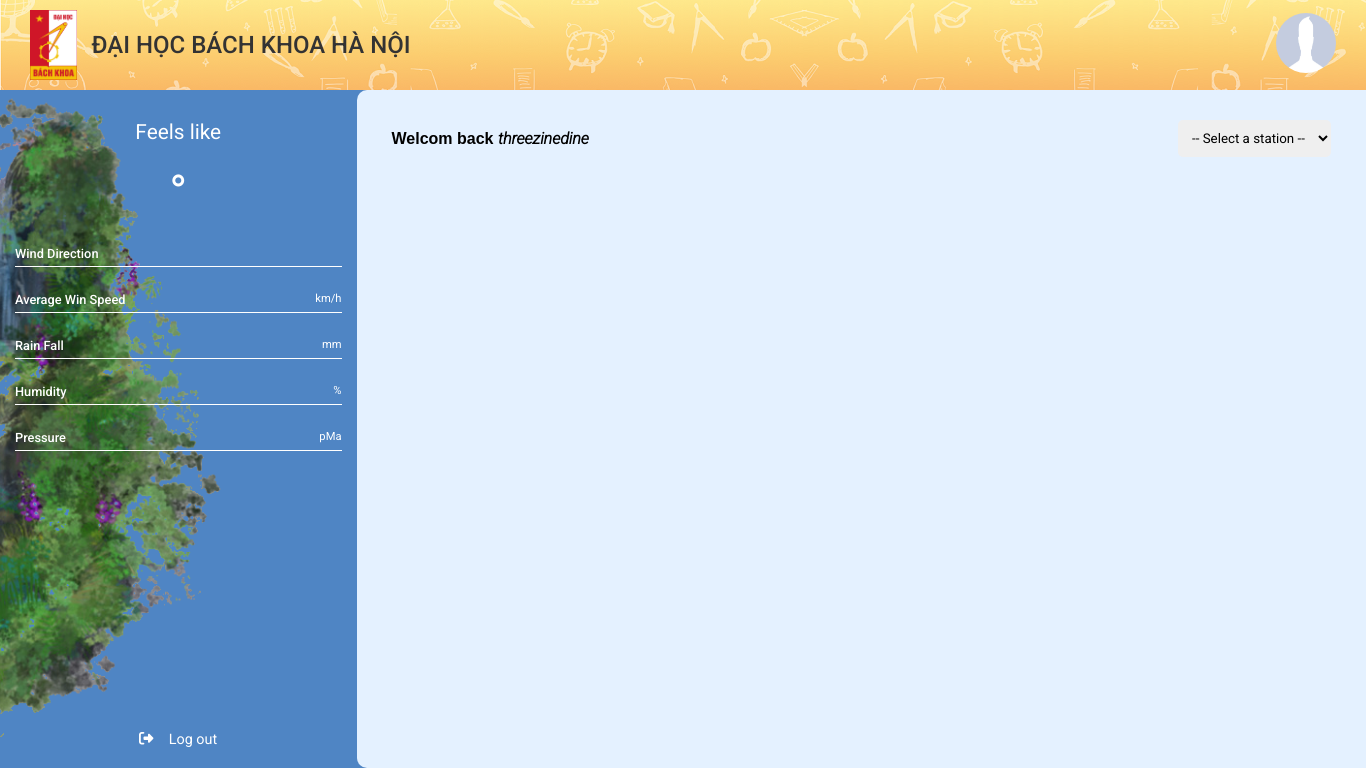
Test: HeaderWrapper testing › should hide the user and log out when 1 of them is clicked
The width and height of the screenshot is (1366, 768).
Click the element with test id "avatar".
click(1306, 43)  # box [1276, 13, 1336, 73]
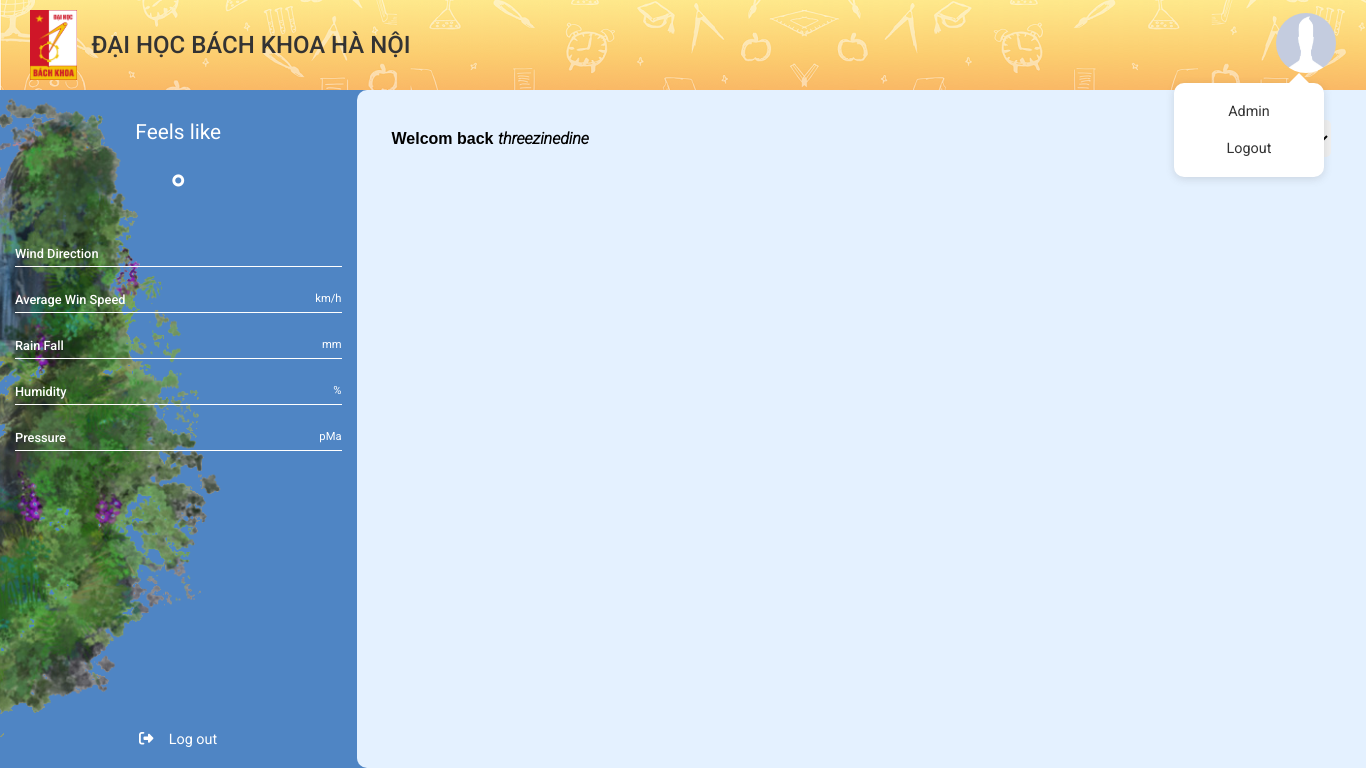
Click the text "Admin".
click(1249, 112)  # box [1228, 103, 1270, 120]
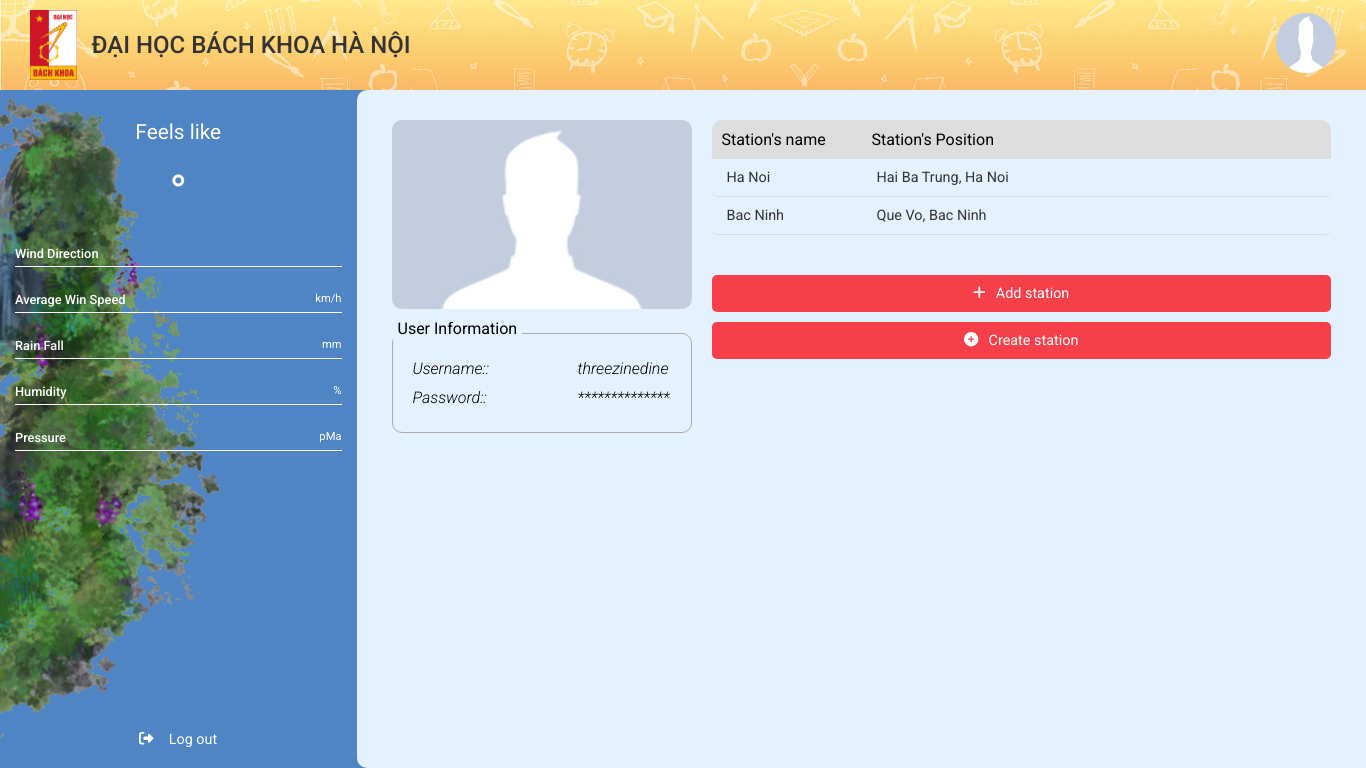
Expected: the text "Logout" is gone
Expected: the text "Admin" is gone
